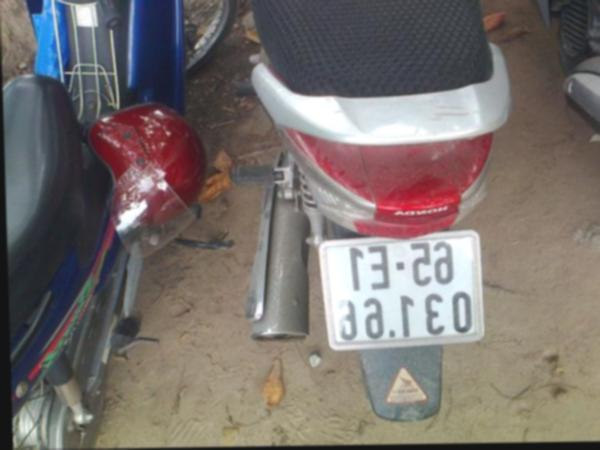License_Plate: (327, 233, 478, 352)
